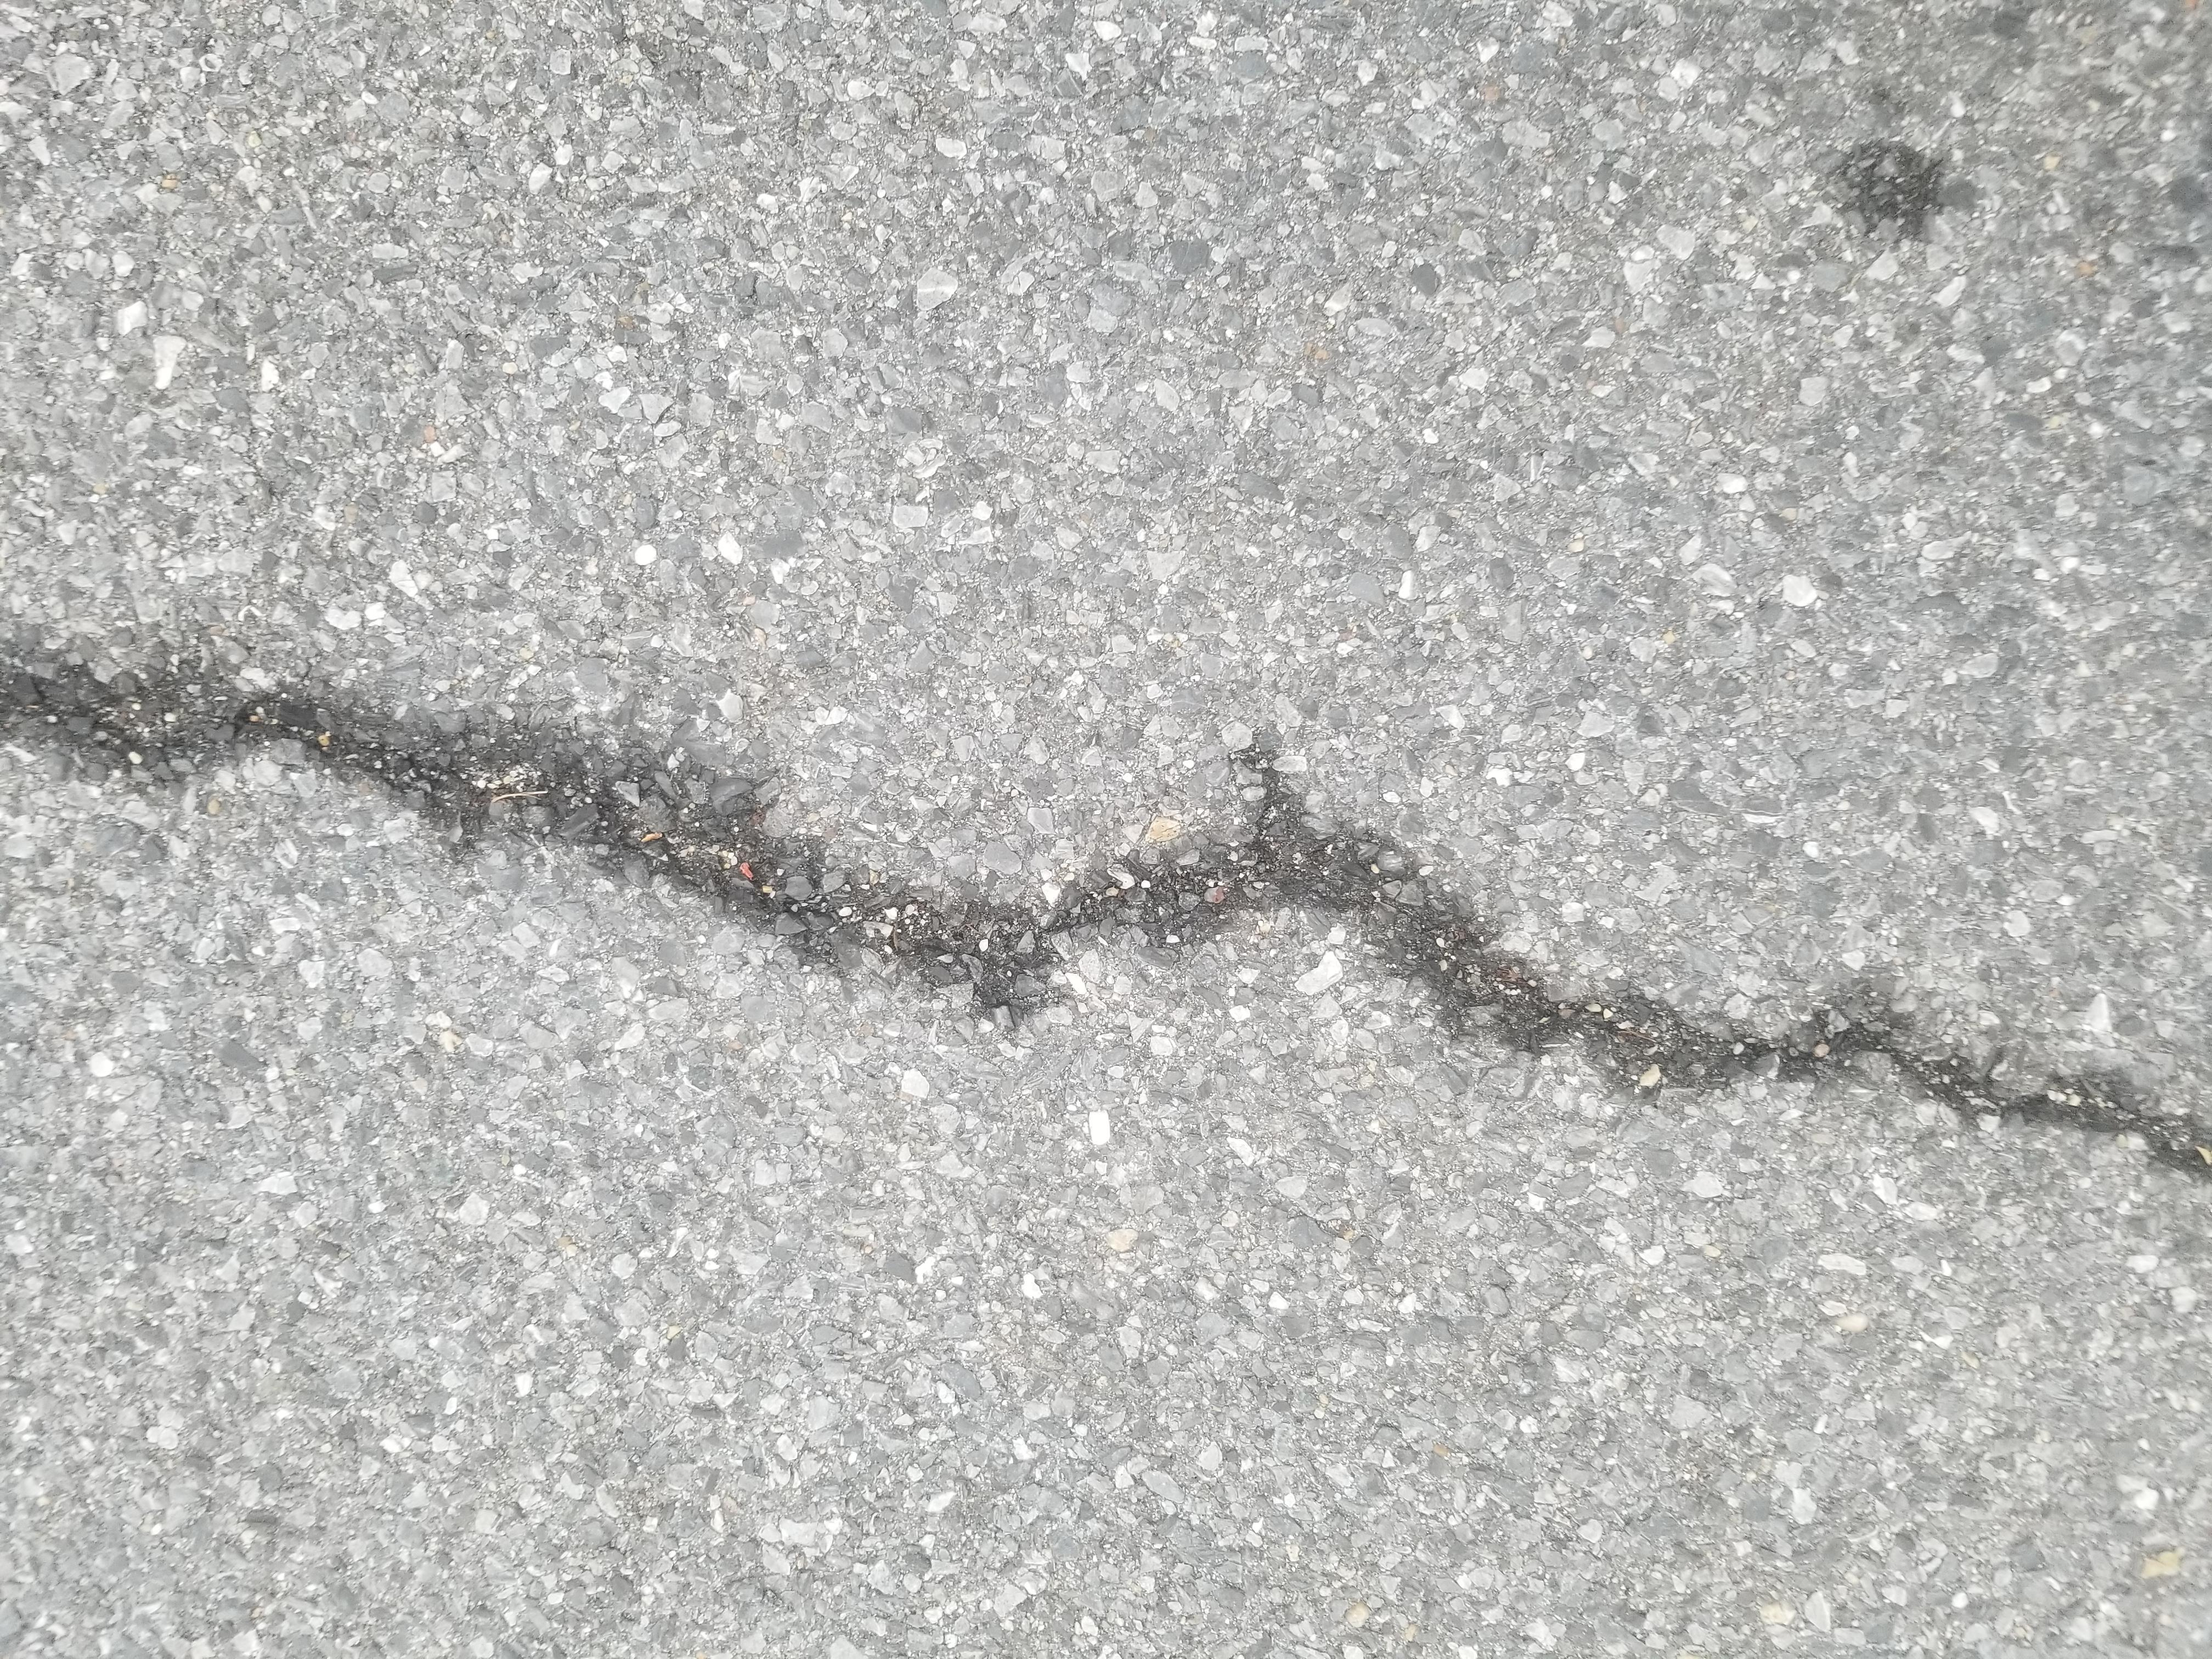crack: (660, 5, 1343, 1659)
